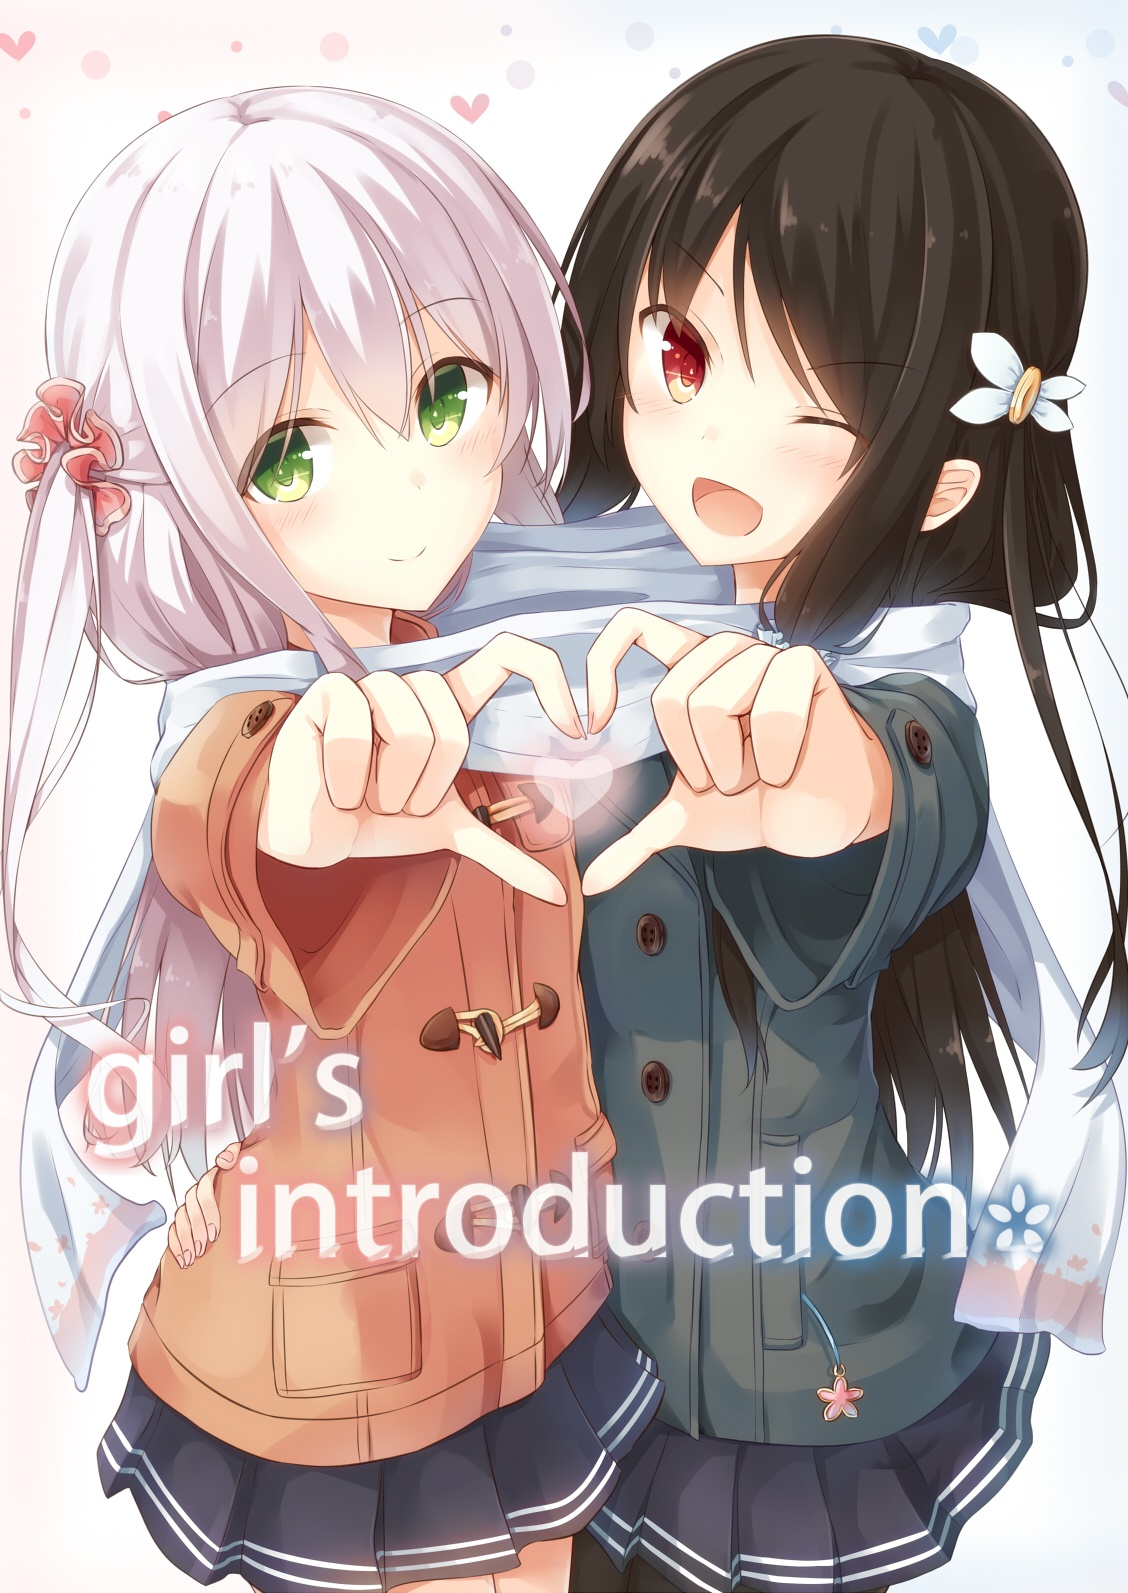纸片人正脸: (566, 36, 1088, 583), (48, 73, 570, 618)
